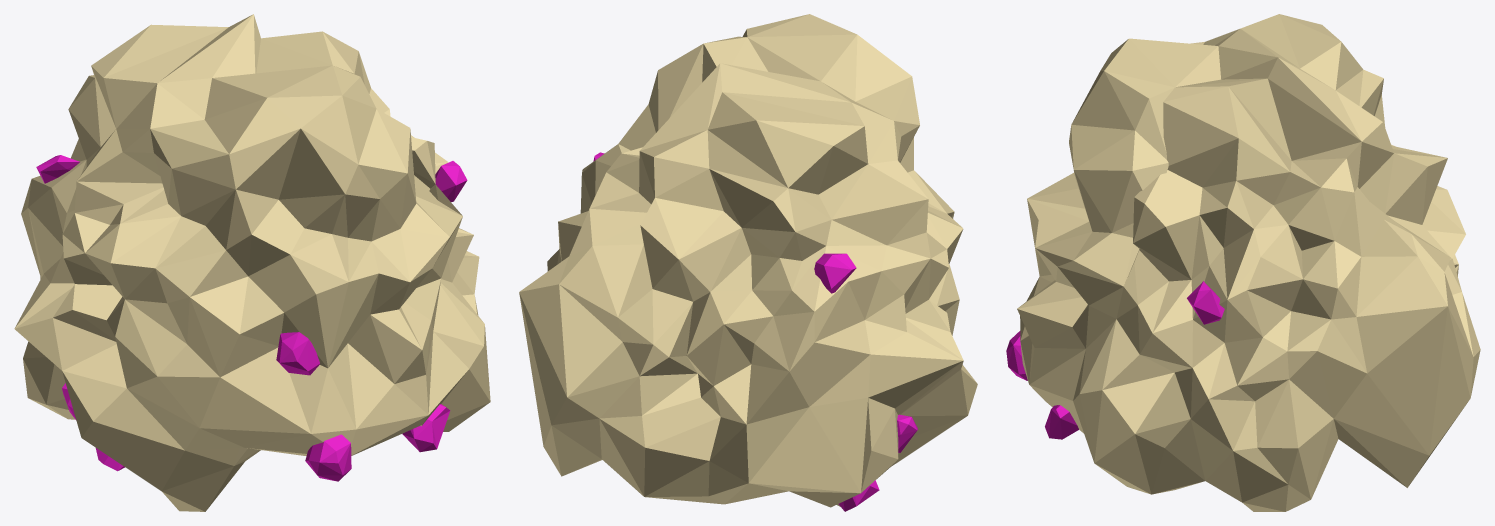
The model's file is CrystalOre (55).fbx.
3 renders of one model, left to right at view 1: azimuth 30°, elevation 25°; view 2: azimuth 150°, elevation 25°; view 3: azimuth 270°, elevation 25°, orthographic. The views are drawn at different scales.
Parts seen in each view (by area): view 1: Asteroid275; view 2: Asteroid275; view 3: Asteroid275.
Boxes of the visible parts, box(x1,y1,x2,y2) form: Asteroid275: box(14, 14, 490, 511); Asteroid275: box(519, 14, 977, 511); Asteroid275: box(1006, 14, 1480, 511).
Bounding box in the file's own units: 546 × 544 × 536.
